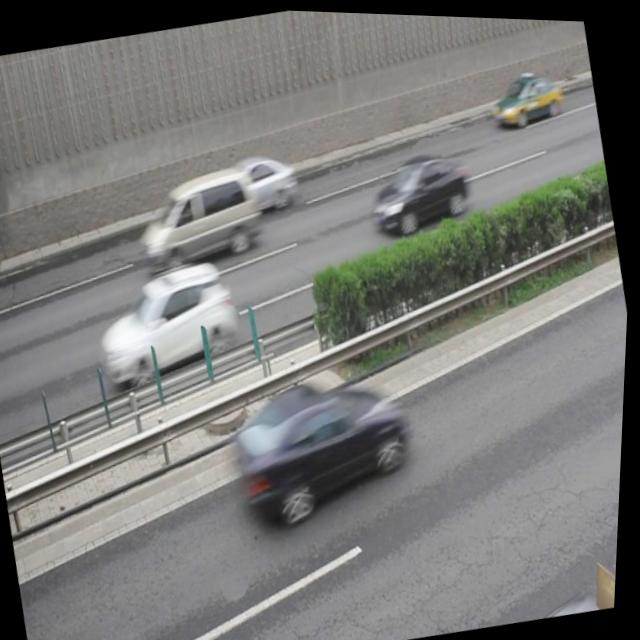car: (227, 357, 425, 529), (87, 250, 249, 389), (364, 143, 477, 236), (485, 58, 566, 128), (229, 144, 303, 219)
truck: (129, 157, 269, 277)
